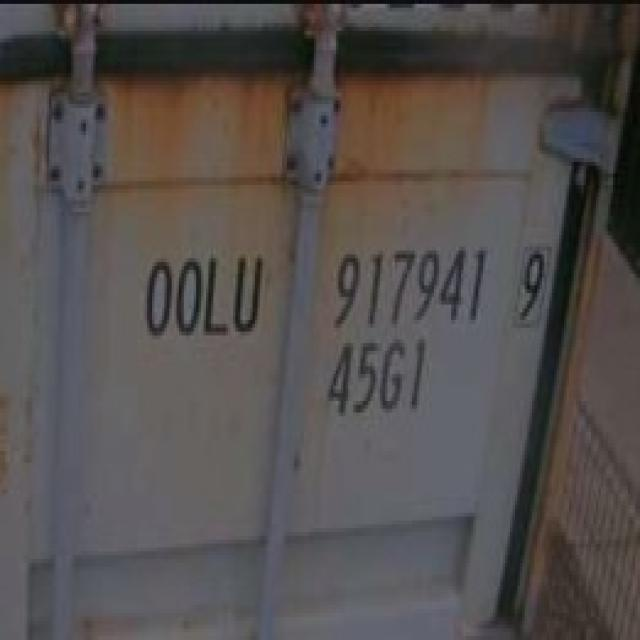dv: (513, 243, 550, 333)
owner: (135, 243, 266, 344)
serial: (329, 237, 490, 335)
size: (327, 336, 431, 428)
